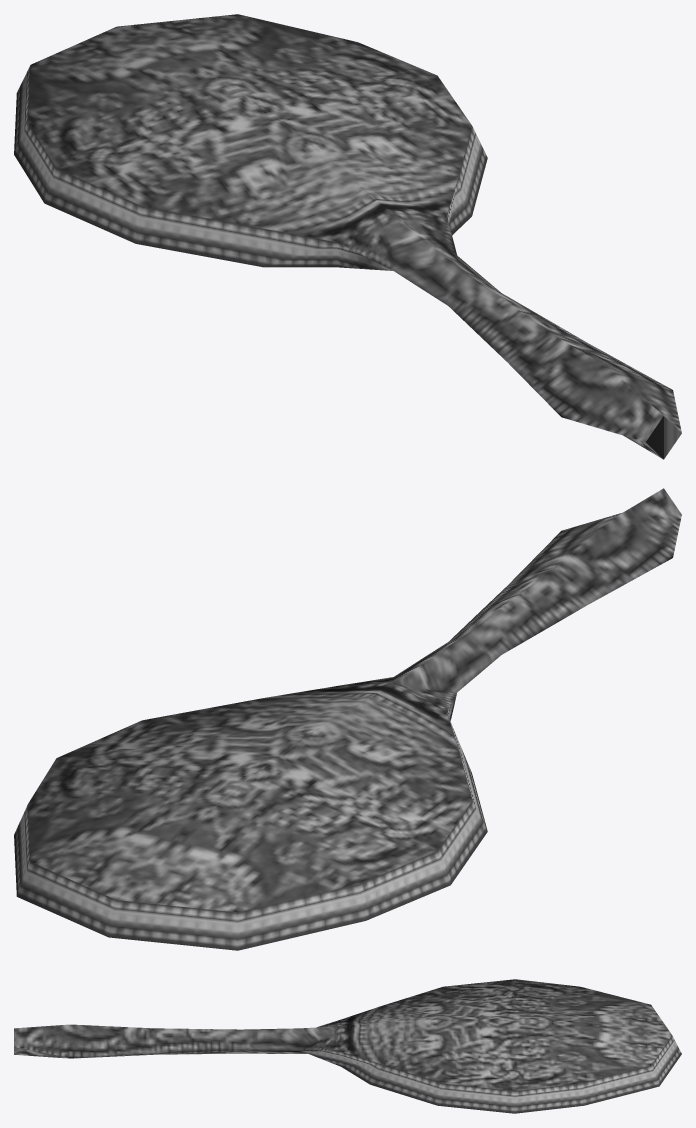
The model's file is shop_barber_handMirrorSilver.fbx.
3 renders of one model, top to bottom at view 1: azimuth 30°, elevation 25°; view 2: azimuth 150°, elevation 25°; view 3: azimuth 270°, elevation 25°, orthographic. The views are drawn at different scales.
Visible parts, largest first — view 1: handMirror; view 2: handMirror; view 3: handMirror.
Part boxes in pixels (box(x1,y1,x2,y2)): handMirror: box(14, 14, 681, 459); handMirror: box(14, 488, 681, 950); handMirror: box(14, 979, 681, 1113).
Bounding box in the file's own units: 33.93 × 5.12 × 80.29.
1 material, 1 textured.
